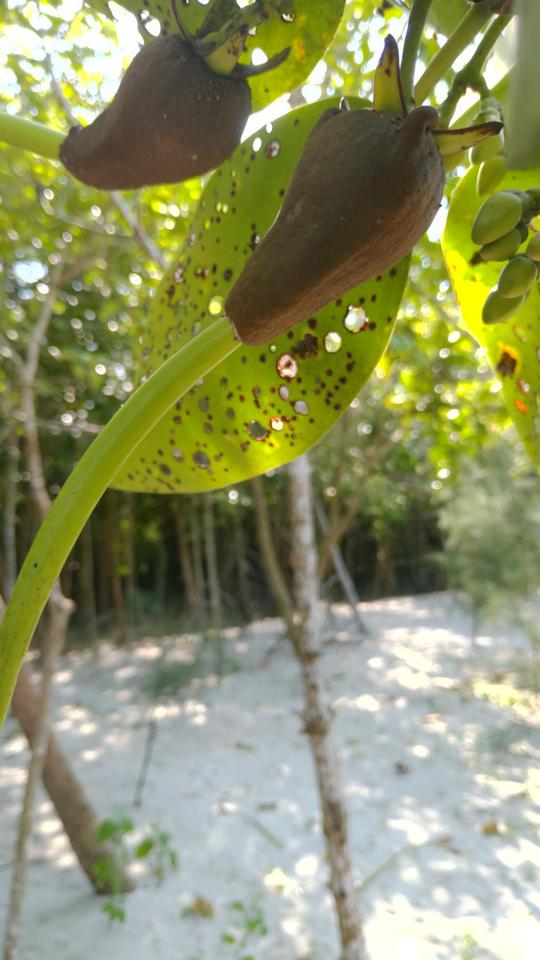mentah: (1, 56, 496, 745)
